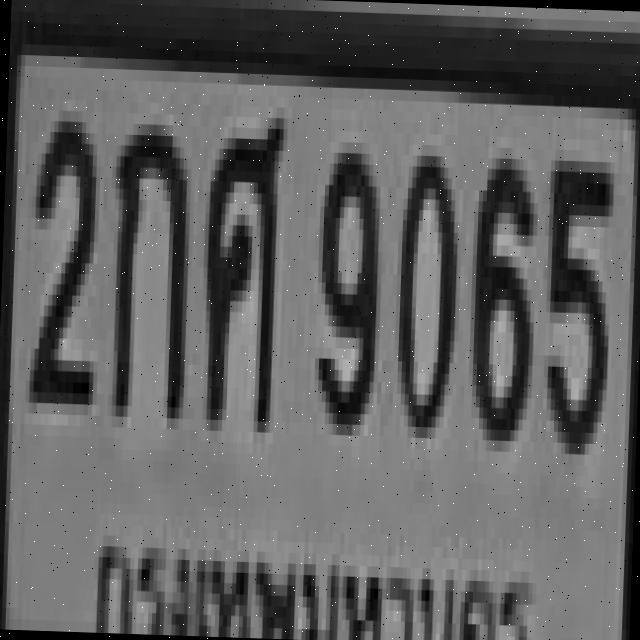0: (392, 144, 456, 428)
10GorGai: (104, 112, 188, 408)
2: (23, 110, 96, 393)
47SorSala: (200, 105, 282, 422)
5: (538, 149, 610, 444)
6: (468, 147, 534, 430)
9: (312, 141, 378, 425)
